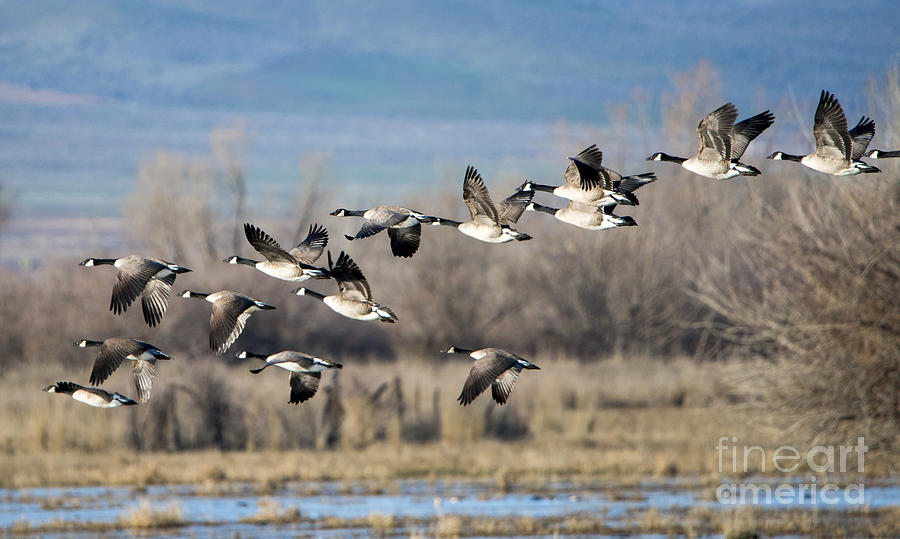goose: (764, 90, 880, 182), (645, 101, 775, 183), (422, 166, 540, 247), (75, 252, 196, 326), (291, 250, 404, 324), (435, 339, 545, 407), (514, 154, 642, 210), (71, 334, 169, 406), (176, 285, 281, 351), (216, 221, 329, 281), (230, 346, 342, 403), (328, 200, 442, 253), (516, 198, 642, 232), (41, 376, 140, 411), (865, 146, 900, 165)
